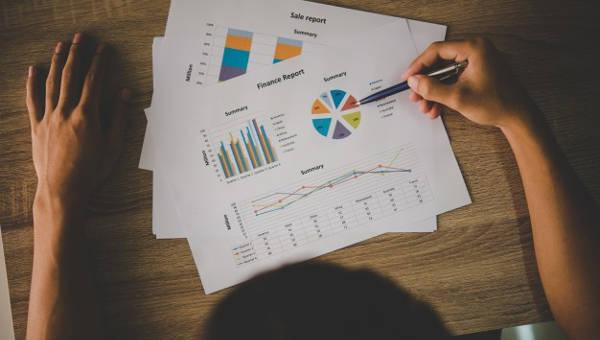paper: (140, 0, 469, 292)
